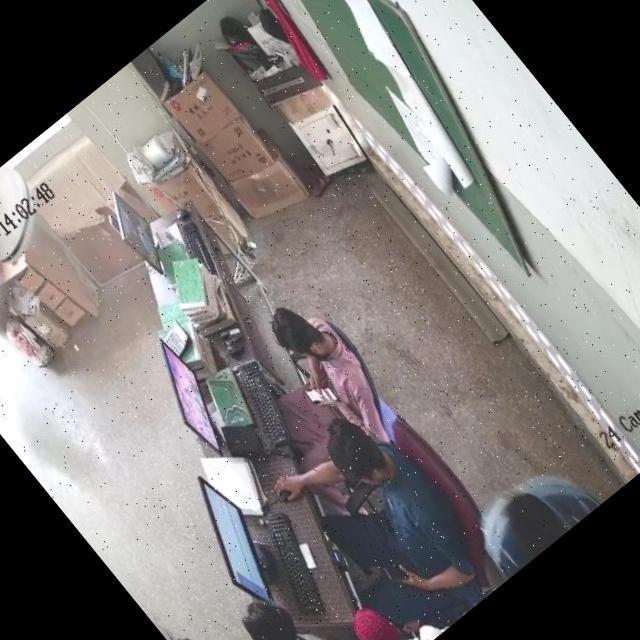person: (294, 405, 478, 602), (240, 287, 392, 447), (458, 439, 598, 576), (221, 568, 382, 640), (336, 565, 451, 640), (164, 603, 313, 640)
